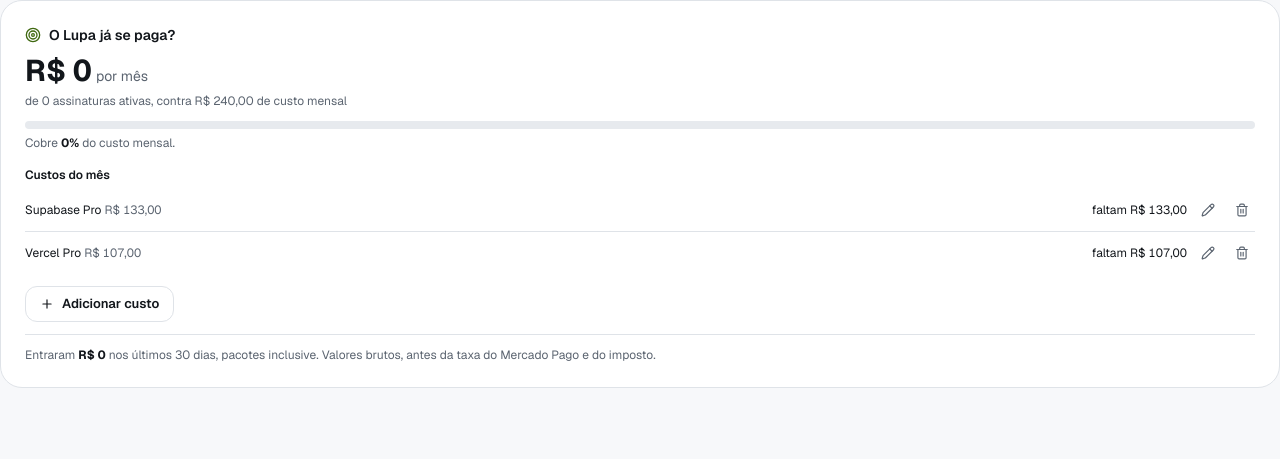
Test: o Lupa já se paga? › falha ao remover aparece na tela, e a conta não é pedida de novo
Click the button named "Remover Vercel Pro": (1242, 253) [1229,240,1255,266]
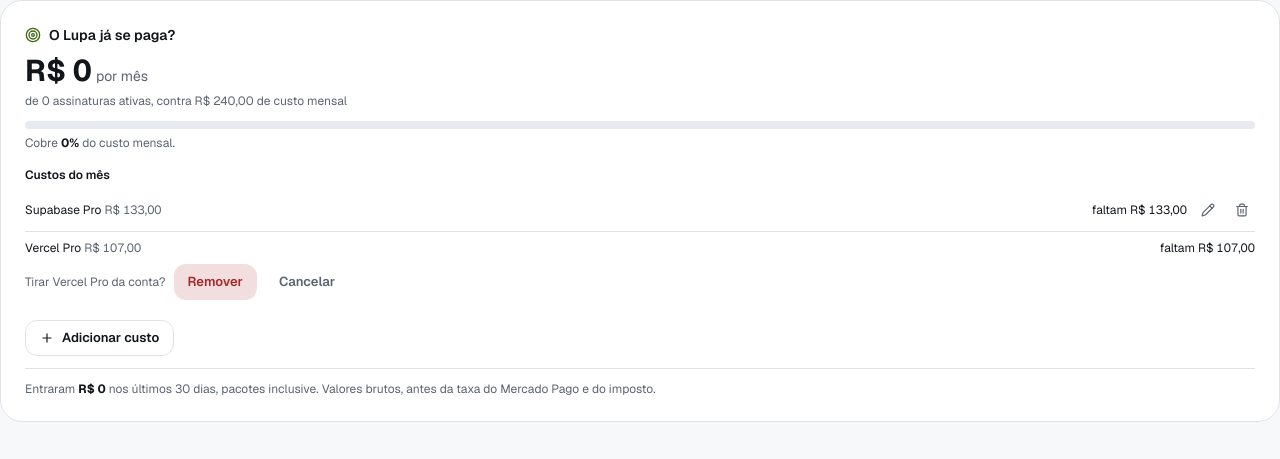
Click the button "Remover": (215, 282) [174,264,257,300]
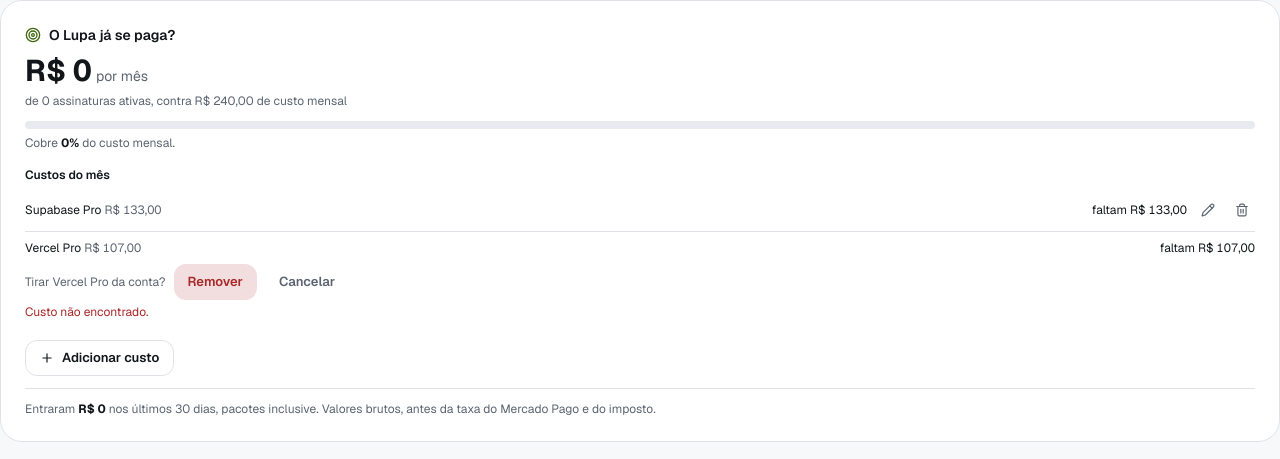
expect the message reads "Custo não encontrado.": met, box [25,304,148,320]
